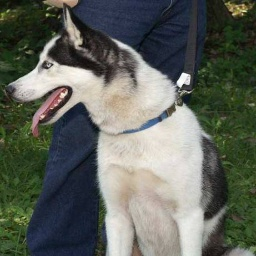dog: (10, 18, 227, 256)
